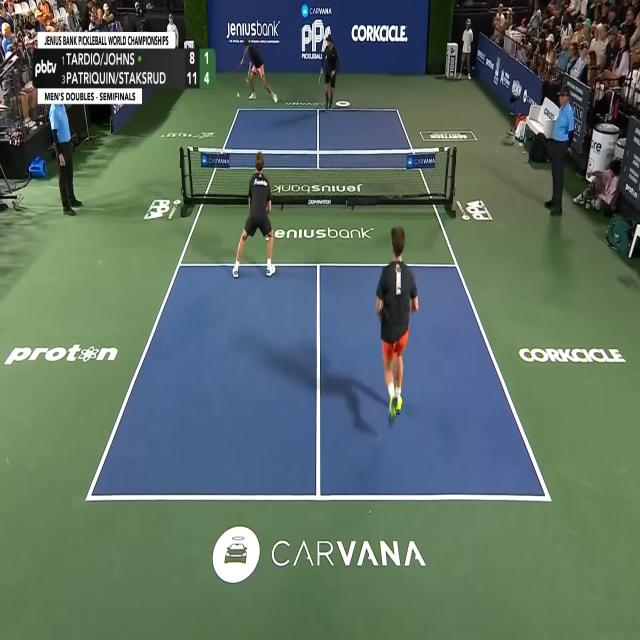ball: (237, 92, 240, 98)
